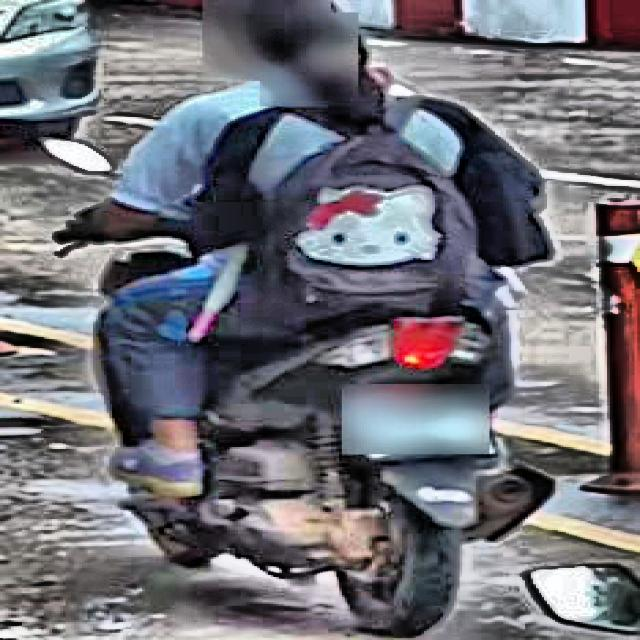motorcycle: (37, 119, 578, 640)
